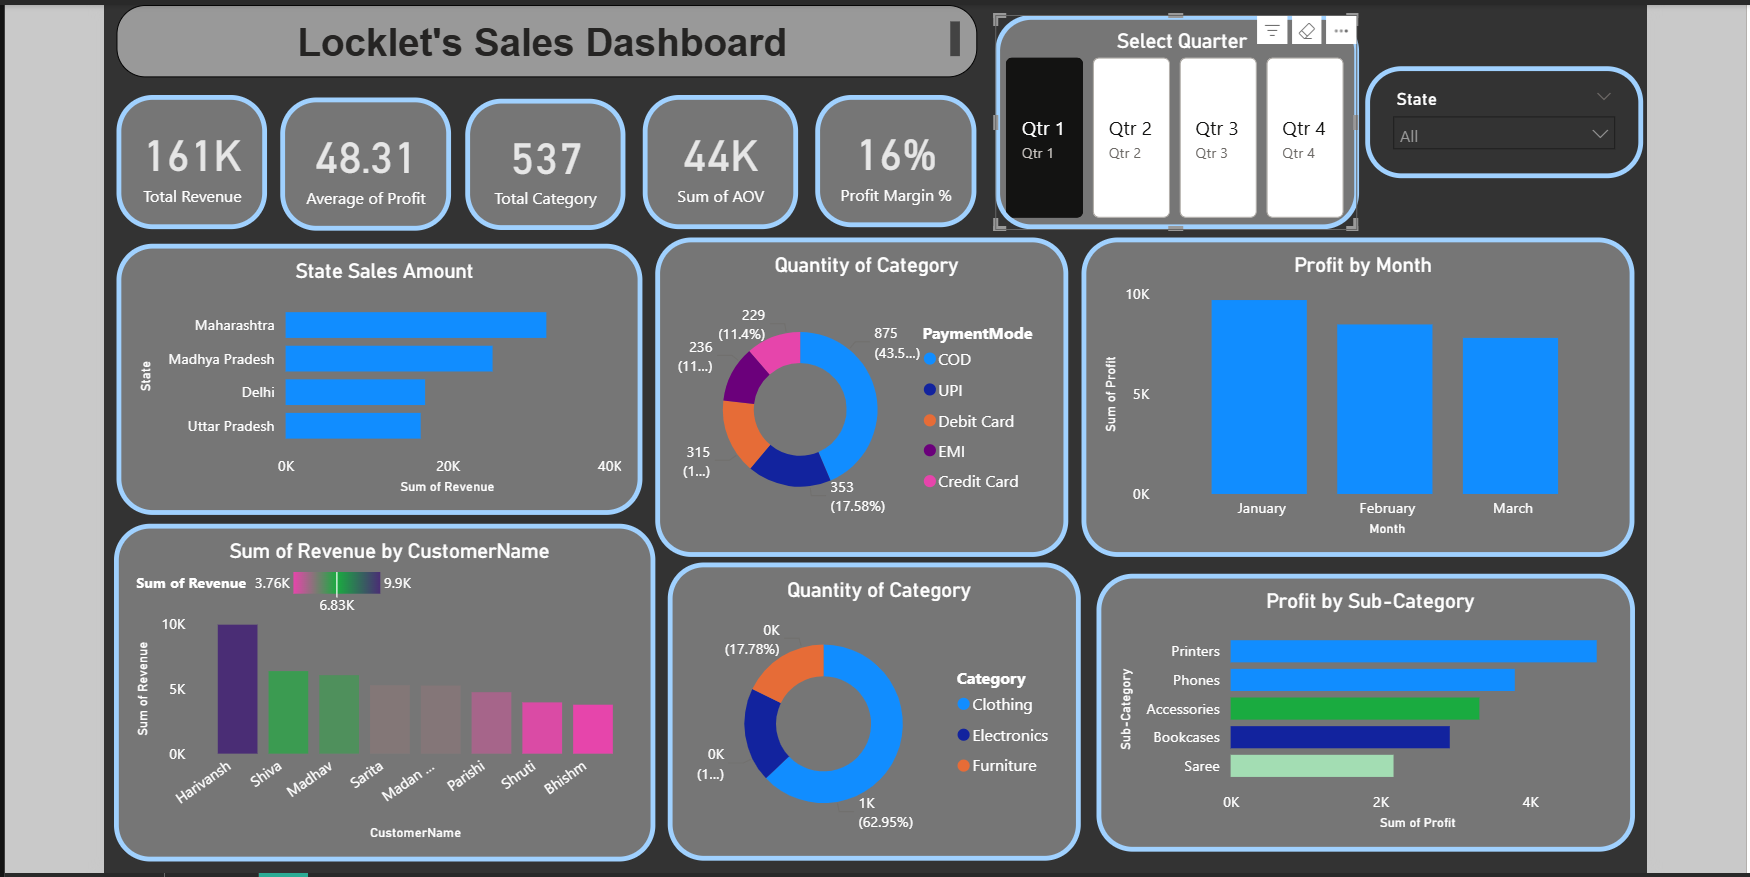

The page's visual inventory and layout, read from the dashboard file:
{"tool":"powerbi","page":{"name":"Page 1","canvas":[1280,720],"ordinal":0},"visuals":[{"type":"textbox","box":[10,0,713.8,60],"z":0},{"type":"donutChart","title":"Quantity of Category","fields":{"Category":["Details.Category"],"Y":["Sum(Details.Quantity)"]},"box":[467.5,462.5,342.5,247.5],"z":1000},{"type":"clusteredColumnChart","title":"Profit by Month","fields":{"Y":["Sum(Details.Profit)"],"Category":["Orders.Order Date.Variation.Date Hierarchy.Month"]},"box":[810,192.5,458.8,265],"z":2000},{"type":"barChart","title":"Profit by Sub-Category","fields":{"Category":["Details.Sub-Category"],"Y":["Sum(Details.Profit)"]},"box":[822.5,471.2,446.2,230],"z":3000},{"type":"donutChart","title":"Quantity of Category","fields":{"Y":["Sum(Details.Quantity)"],"Category":["Details.PaymentMode"]},"box":[457.5,192.5,342.5,265],"z":4000},{"type":"card","fields":{"Values":["Sum(Details.Amount)"]},"box":[10,75,125,111.2],"z":5000},{"type":"card","fields":{"Values":["Avg(Details.Profit)"]},"box":[146.2,76.2,141.2,110],"z":6000},{"type":"card","fields":{"Values":["CountNonNull(Details.Category)"]},"box":[300,77.5,132.5,108.8],"z":7000},{"type":"card","fields":{"Values":["Sum(Details.AOV)"]},"box":[446.2,75,128.8,111.2],"z":8000},{"type":"barChart","title":"State Sales Amount","fields":{"Category":["Orders.State"],"Y":["Sum(Details.Amount)"]},"box":[10,197.5,436.2,225],"z":9000},{"type":"columnChart","fields":{"Category":["Orders.CustomerName"],"Y":["Sum(Details.Amount)"]},"box":[8.8,430,448.8,280],"z":10000},{"type":"advancedSlicerVisual","title":"Select Quarter","fields":{"Values":["Orders.Order Date.Variation.Date Hierarchy.Quarter"],"Label":["Min(Orders.Order Date.Variation.Date Hierarchy.Quarter)"]},"box":[738.5,8.4,301.4,177.7],"z":11000},{"type":"slicer","fields":{"Values":["Orders.State"]},"box":[1045.4,51.2,230.2,93],"z":12000},{"type":"card","fields":{"Values":["Details.Profit Margin %"]},"box":[589.6,74.4,133.3,109.3],"z":13000}]}

Visuals, with their boxes on the page's 1280x720 design canvas (x1, y1, x2, y2). These are canvas units, not pixel positions in the 1750x877 screenshot, which may show the page scaled, cropped or inside an application window:
textbox: 10,0,724,60
"Quantity of Category" donutChart: 468,462,810,710
"Profit by Month" clusteredColumnChart: 810,192,1269,458
"Profit by Sub-Category" barChart: 822,471,1269,701
"Quantity of Category" donutChart: 458,192,800,458
card - Sum(Details.Amount): 10,75,135,186
card - Avg(Details.Profit): 146,76,287,186
card - CountNonNull(Details.Category): 300,78,432,186
card - Sum(Details.AOV): 446,75,575,186
"State Sales Amount" barChart: 10,198,446,422
columnChart - Orders.CustomerName x Sum(Details.Amount): 9,430,458,710
"Select Quarter" advancedSlicerVisual: 738,8,1040,186
slicer - Orders.State: 1045,51,1276,144
card - Details.Profit Margin %: 590,74,723,184
